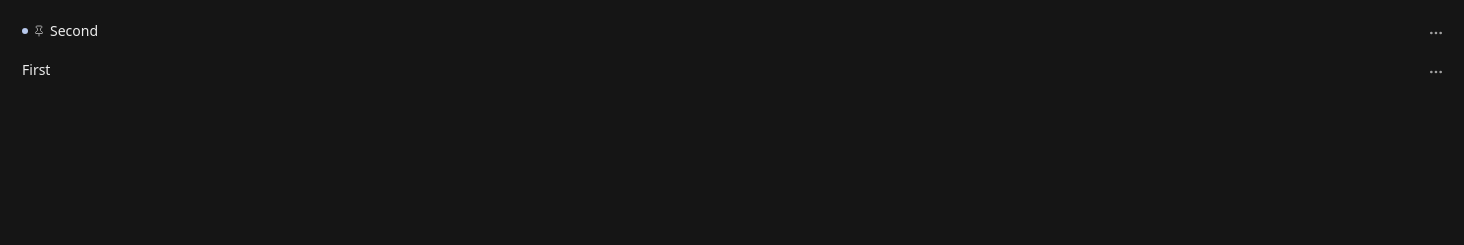
Scenario: sidebar session actions › orders pinned rows first and renders an unread marker without modifying dashboard rows
This screenshot has width=1464, height=245.
Expected: the element named "未讀" is shown, [22, 28, 28, 34]
Click the button named "更多會話操作 Second" at (1435, 33), box [1422, 20, 1448, 46]
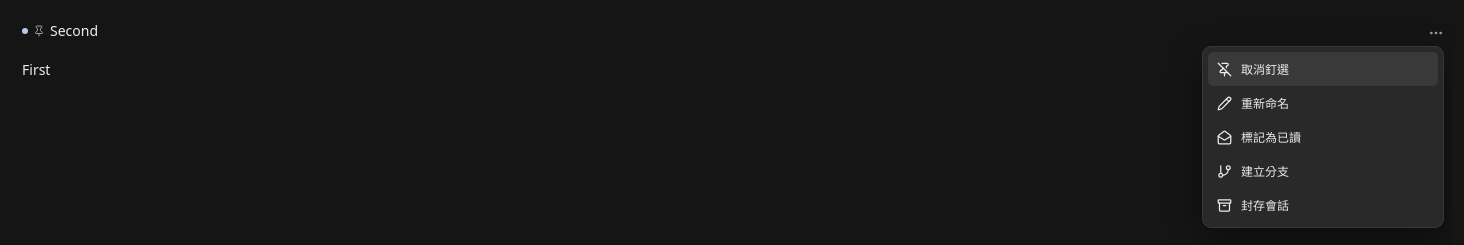
Expected: the menu item "取消釘選" is shown, [1208, 52, 1438, 86]
Expected: the menu item "標記為已讀" is shown, [1208, 120, 1438, 154]
